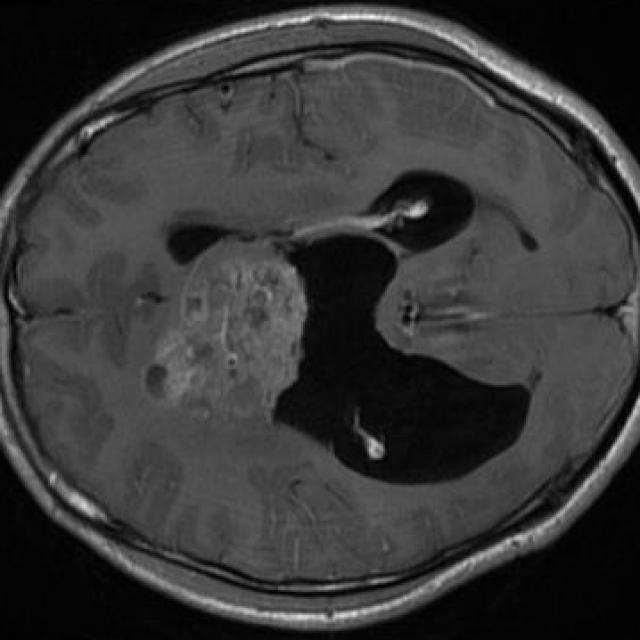glioma: (144, 241, 307, 421)
